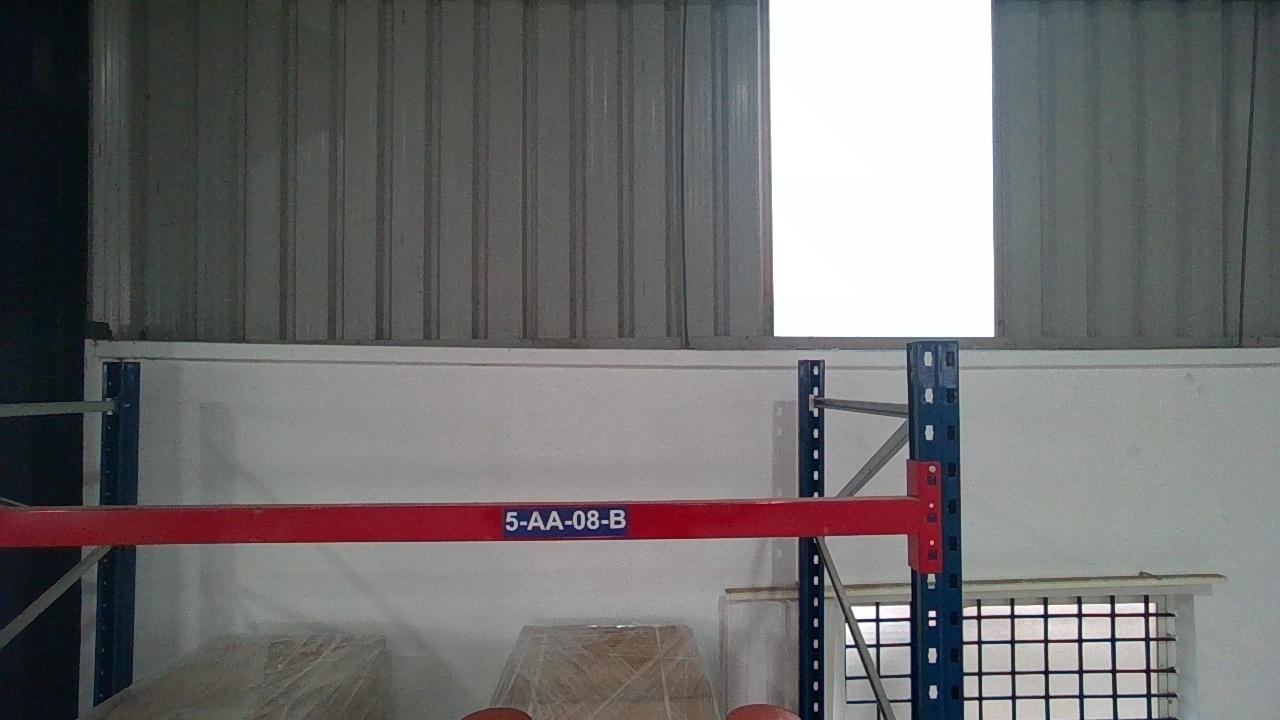h_rack: (2, 501, 920, 544)
